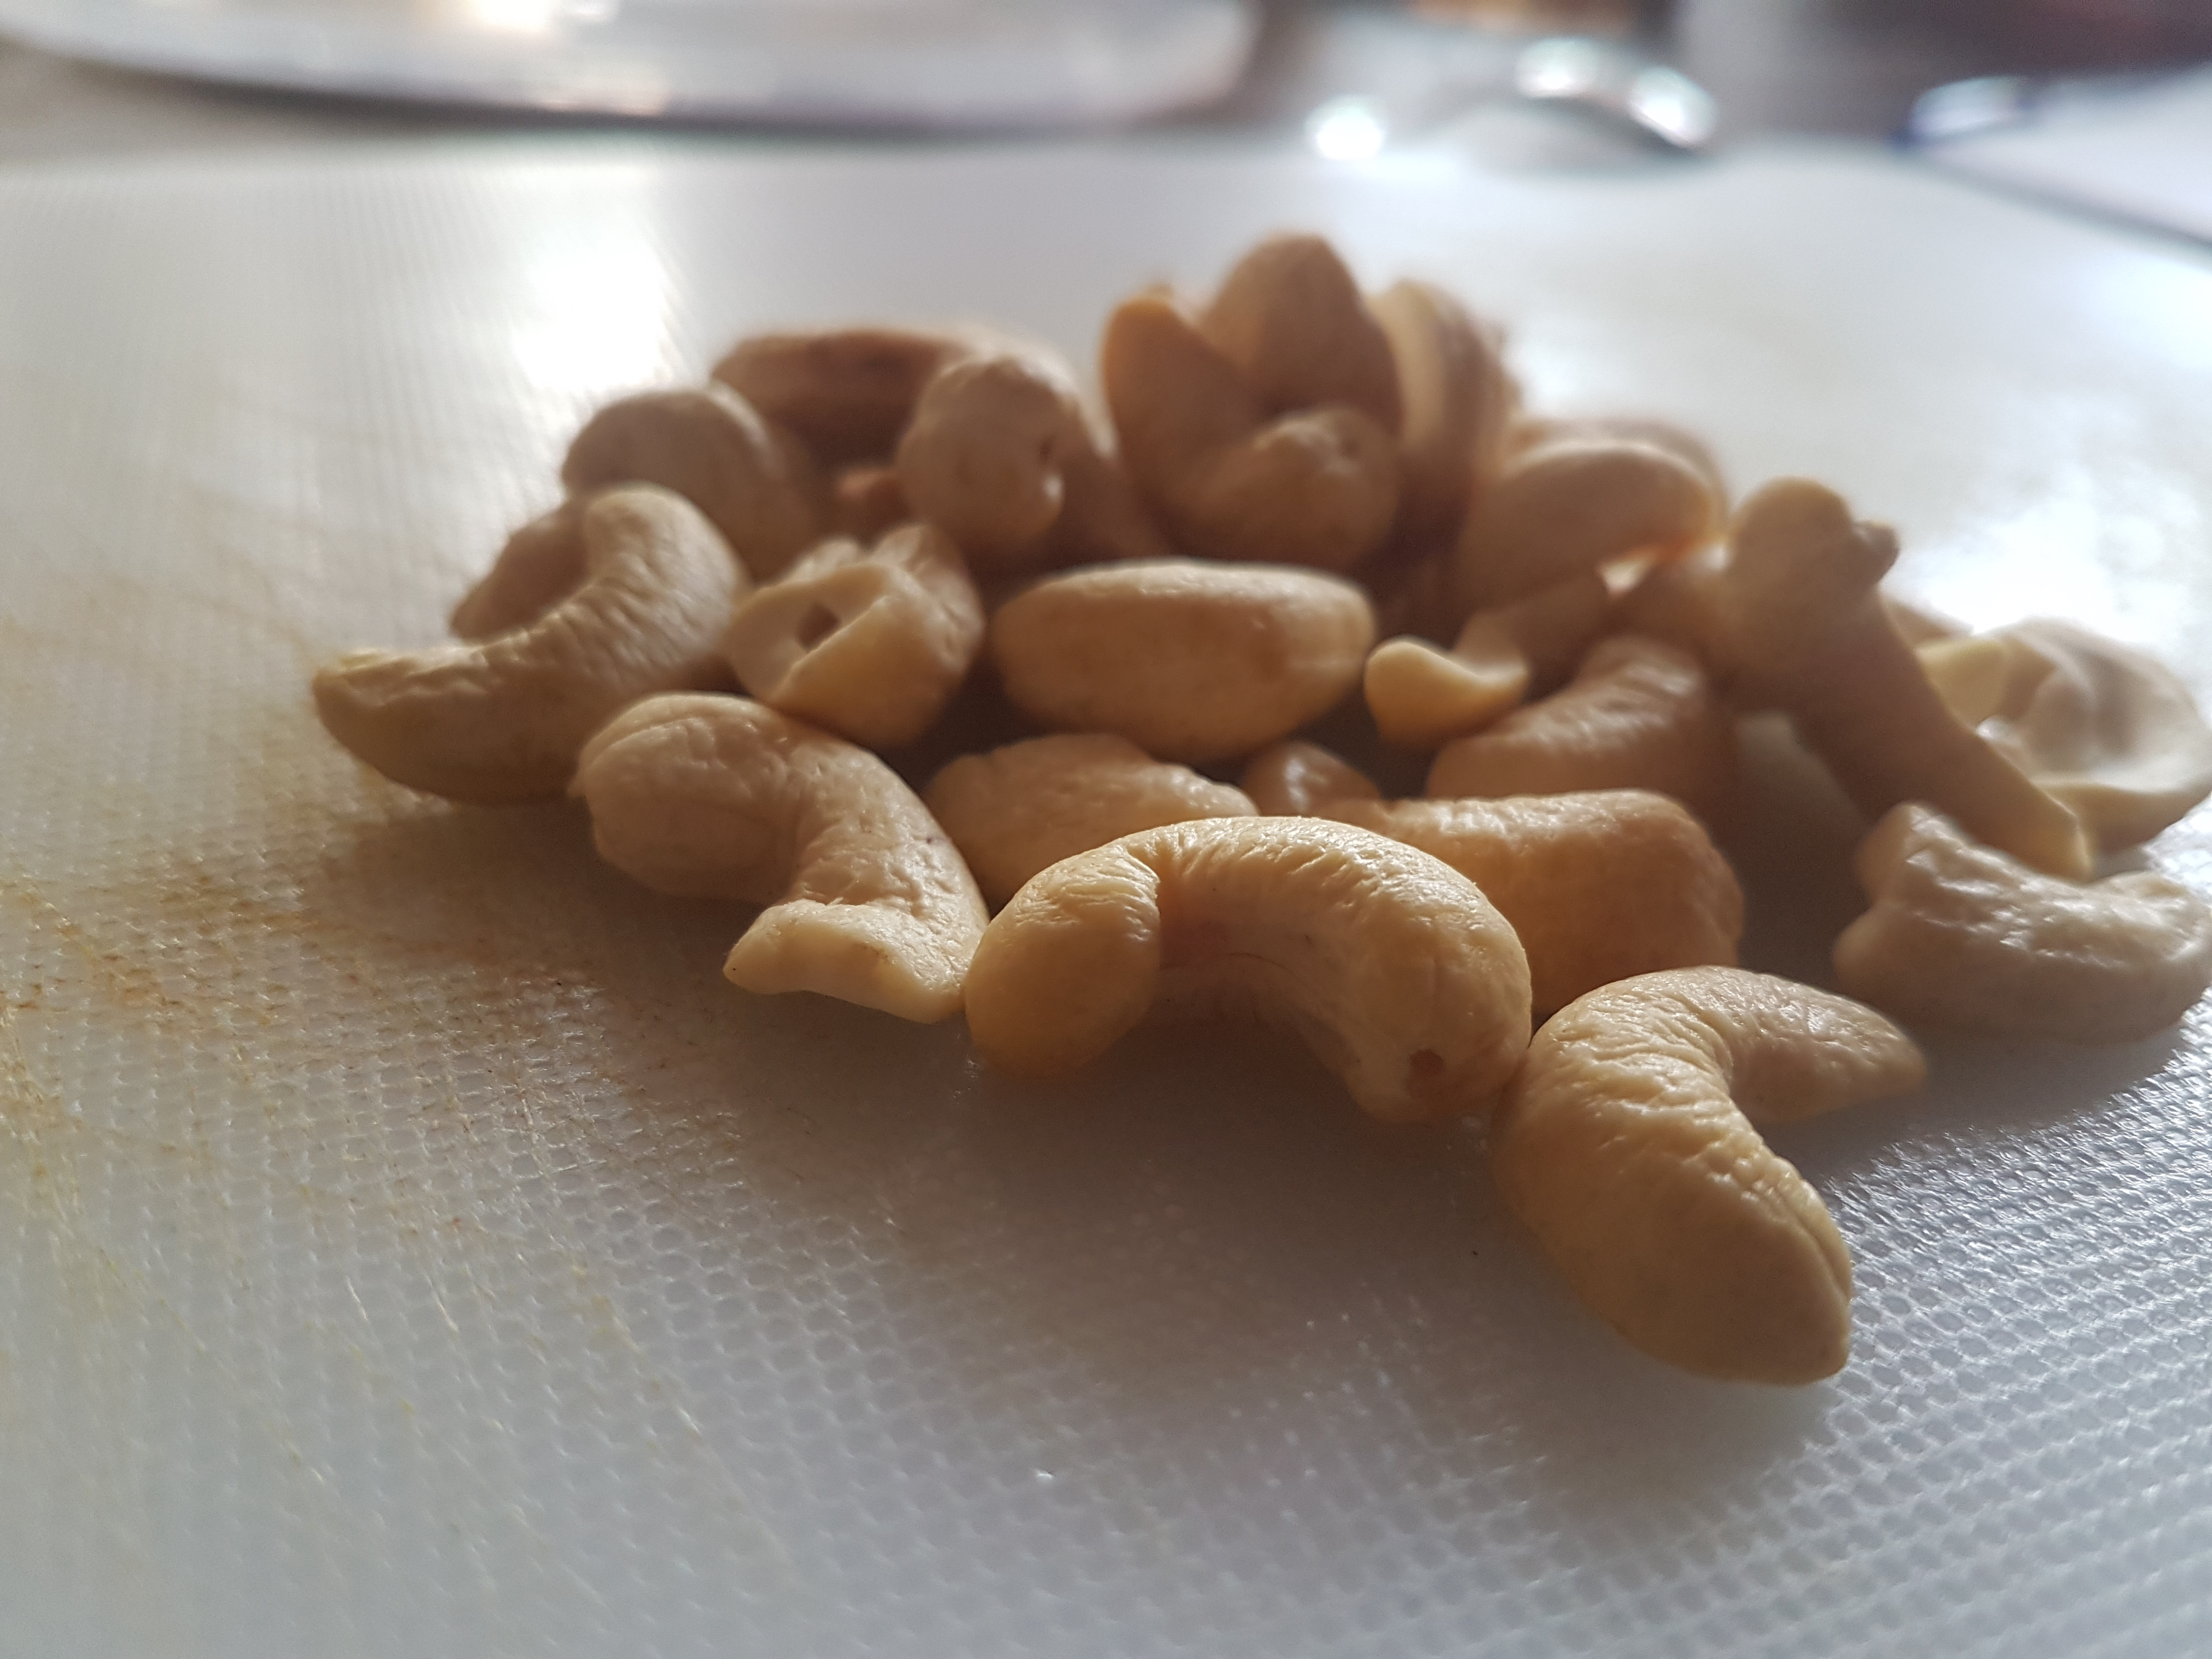Cashew: (341, 218, 2202, 1377)
